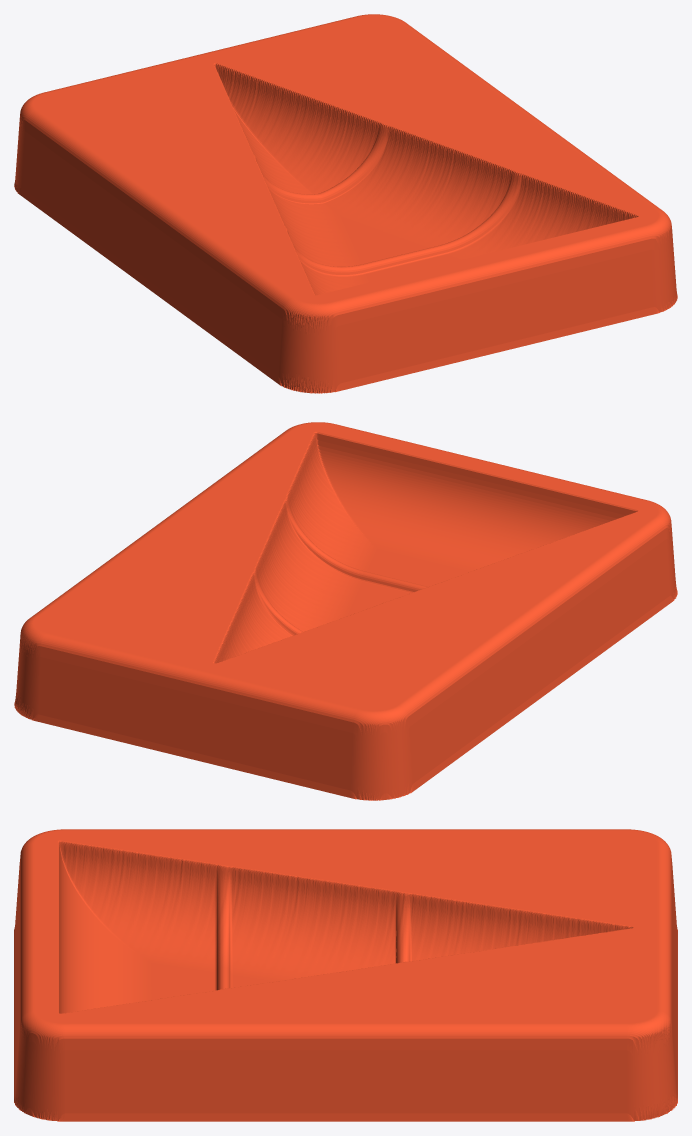
File: mold.glb
3 views of the same model, one above another, from view 1: azimuth 30°, elevation 25°; view 2: azimuth 150°, elevation 25°; view 3: azimuth 270°, elevation 25° (orthographic). The views are drawn at different scales.
Parts seen in each view (by area): view 1: geometry_0; view 2: geometry_0; view 3: geometry_0.
Boxes of the visible parts, bbox=[...] form: geometry_0: bbox=[14, 14, 677, 393]; geometry_0: bbox=[14, 422, 677, 800]; geometry_0: bbox=[14, 829, 677, 1121].
Bounding box in the file's own units: 0.0882 × 0.0175 × 0.1178.
